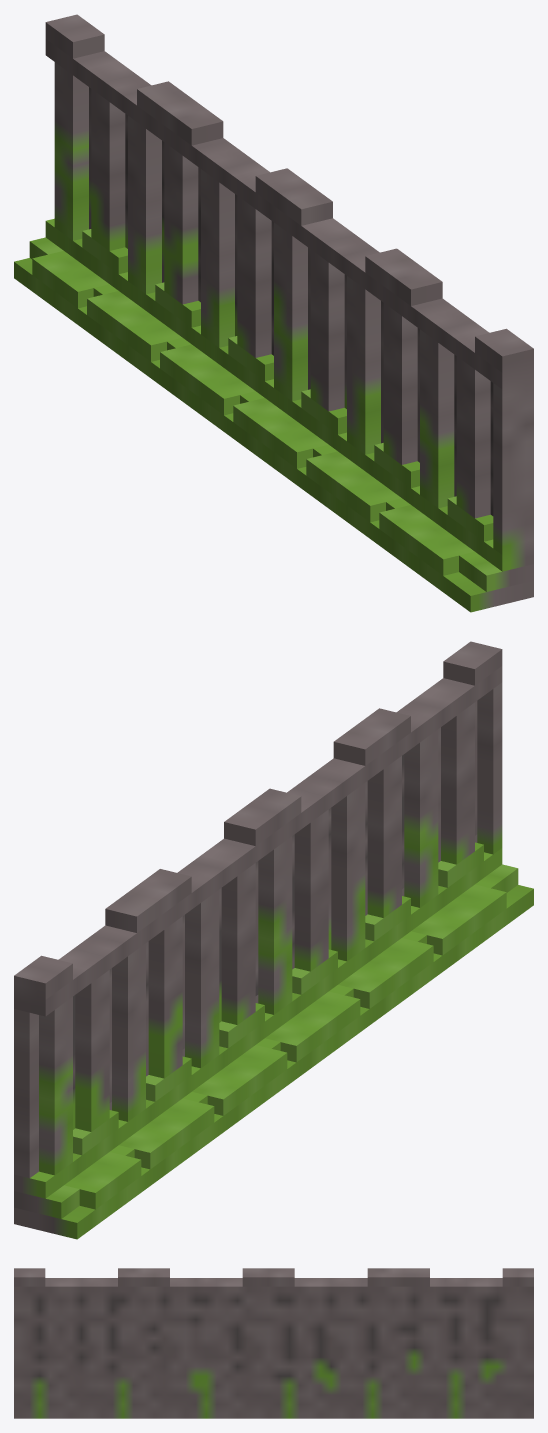
File: Ruin_Fence.fbx
The picture shows the model from 3 angles, top to bottom: view 1: azimuth 30°, elevation 25°; view 2: azimuth 150°, elevation 25°; view 3: azimuth 270°, elevation 25°; orthographic projection. The views are drawn at different scales.
Visible parts, largest first — view 1: Ruin_Fence; view 2: Ruin_Fence; view 3: Ruin_Fence.
Boxes of the visible parts, x1=… form: Ruin_Fence: x1=14, y1=14, x2=533, y2=612; Ruin_Fence: x1=14, y1=641, x2=533, y2=1239; Ruin_Fence: x1=14, y1=1268, x2=533, y2=1418.
Bounding box in the file's own units: 4 × 15 × 50.
1 material, 1 textured.
